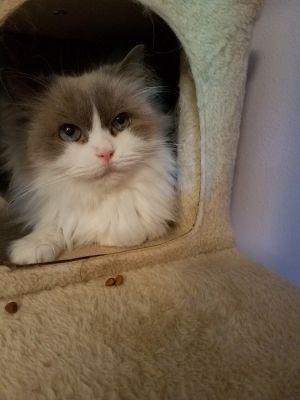ragdoll: (16, 40, 175, 206)
